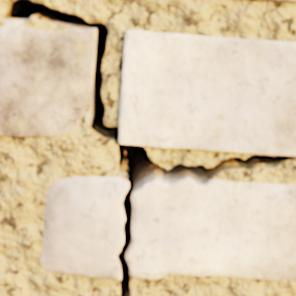brick: (119, 31, 295, 155), (0, 26, 95, 137), (259, 0, 295, 2)
broken_brick: (125, 178, 295, 280), (41, 176, 128, 279)
crack: (1, 0, 295, 295)
